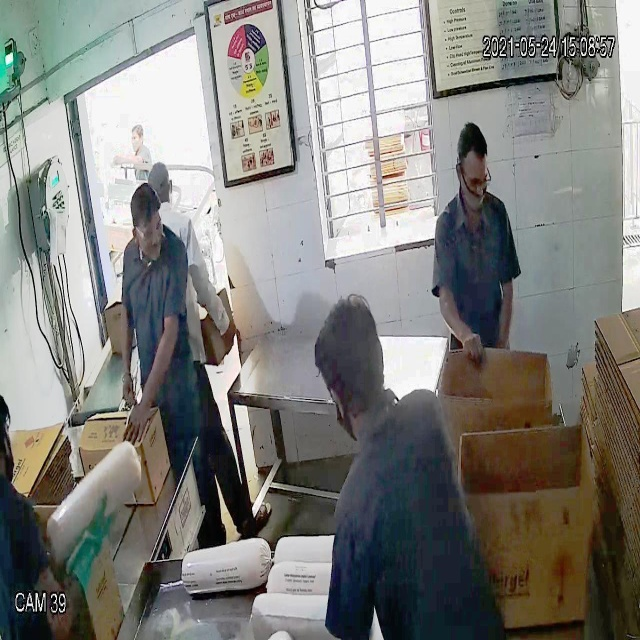Gafas: (130, 212, 167, 250)
